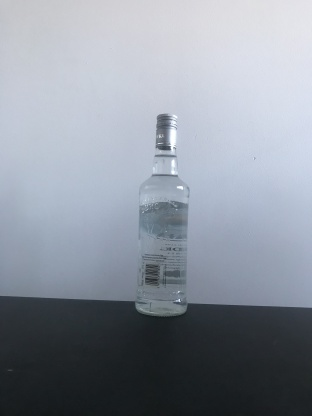nakretka: (154, 112, 178, 151)
